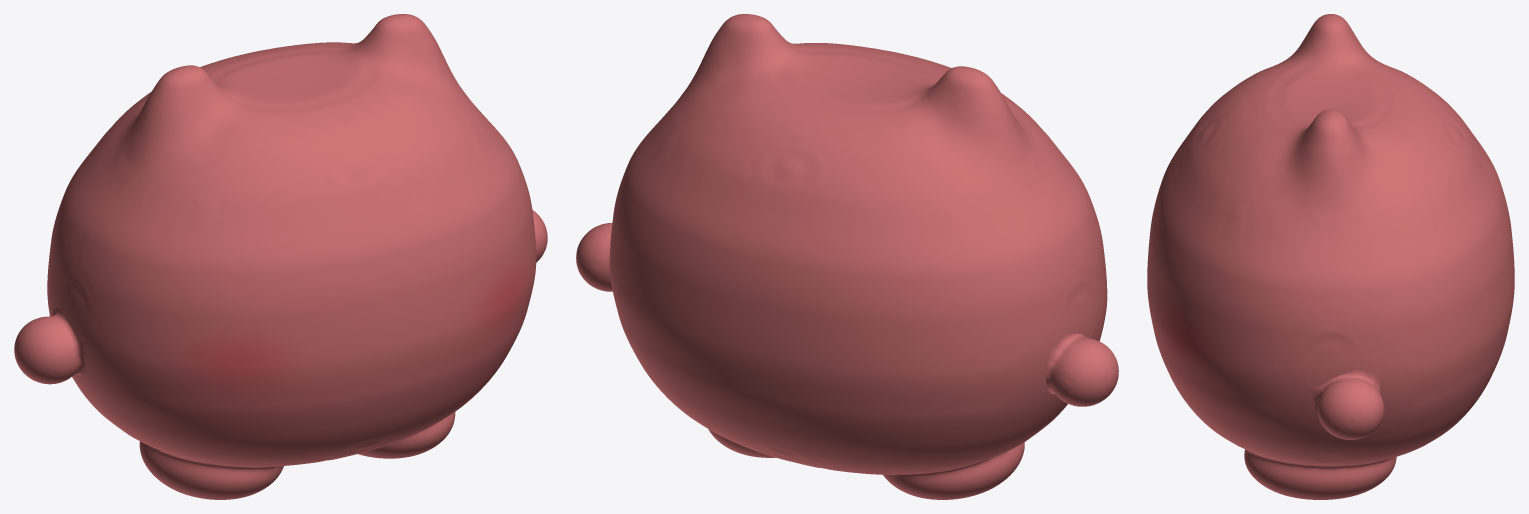
Rendered from bubu-hybrid-binding.glb.
3 renders of one model, left to right at view 1: azimuth 30°, elevation 25°; view 2: azimuth 150°, elevation 25°; view 3: azimuth 270°, elevation 25°, orthographic. The views are drawn at different scales.
Visible parts, largest first — view 1: Bubu_body, Bubu_foot-left, Bubu_hand-left, Bubu_foot-right; view 2: Bubu_body, Bubu_hand-left, Bubu_foot-left, Bubu_hand-right; view 3: Bubu_body, Bubu_foot-right, Bubu_hand-right.
Part boxes in pixels (x1,y1,x2,y2): Bubu_body: (47, 14, 536, 462); Bubu_foot-left: (139, 441, 319, 499); Bubu_hand-left: (14, 302, 93, 384); Bubu_foot-right: (358, 412, 455, 458); Bubu_body: (609, 14, 1107, 470); Bubu_hand-left: (1044, 314, 1118, 406); Bubu_foot-left: (830, 442, 1024, 499); Bubu_hand-right: (576, 223, 612, 291); Bubu_body: (1147, 14, 1514, 463); Bubu_foot-right: (1237, 445, 1424, 499); Bubu_hand-right: (1296, 368, 1384, 439).
Bounding box in the file's own units: 2.38 × 1.79 × 1.57.
